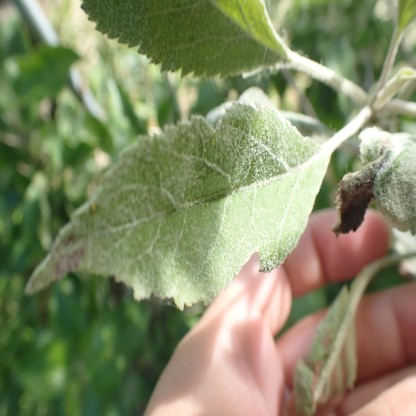powder: (26, 100, 326, 309), (80, 0, 290, 82), (332, 127, 416, 234)
